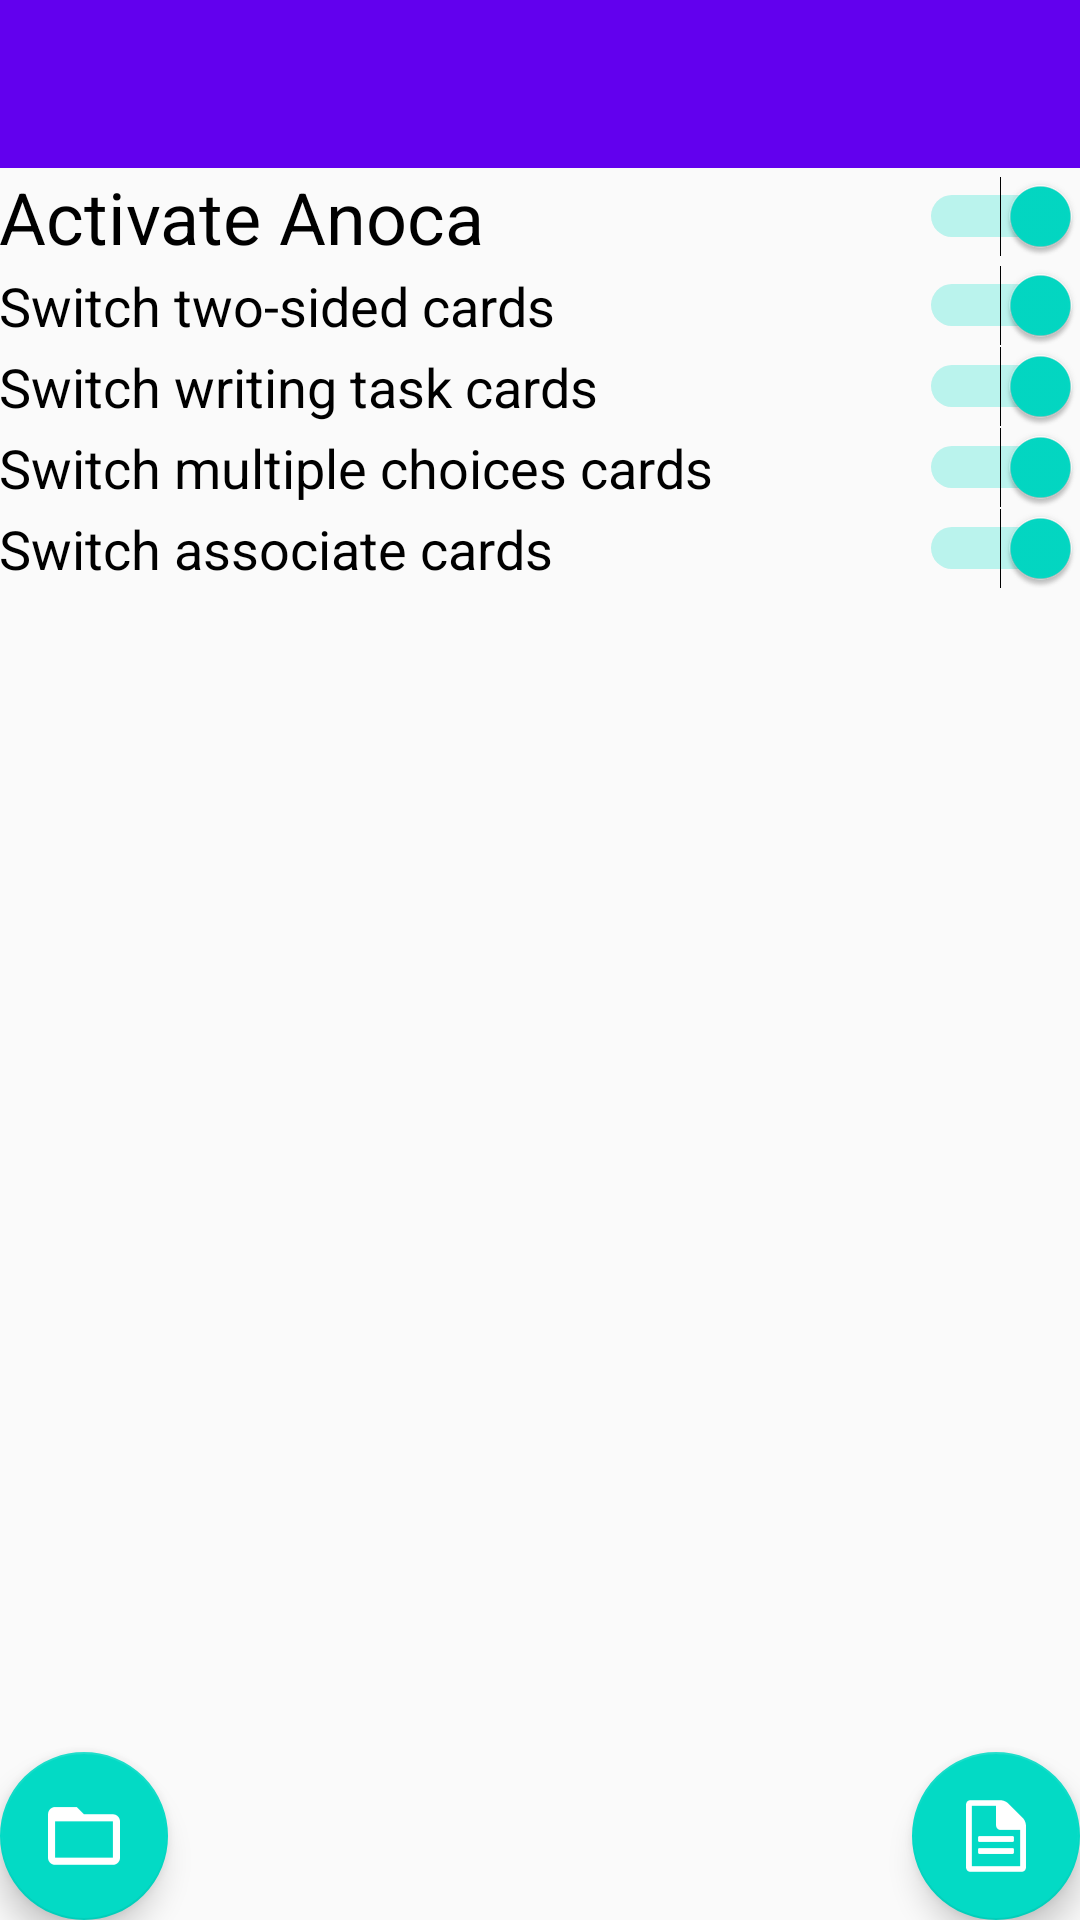

Icons on this 1080 × 1920 Android screen, each with its box as (x1, y1, x2, y2):
add card: (912, 1752, 1080, 1920)
add category: (0, 1752, 168, 1920)
